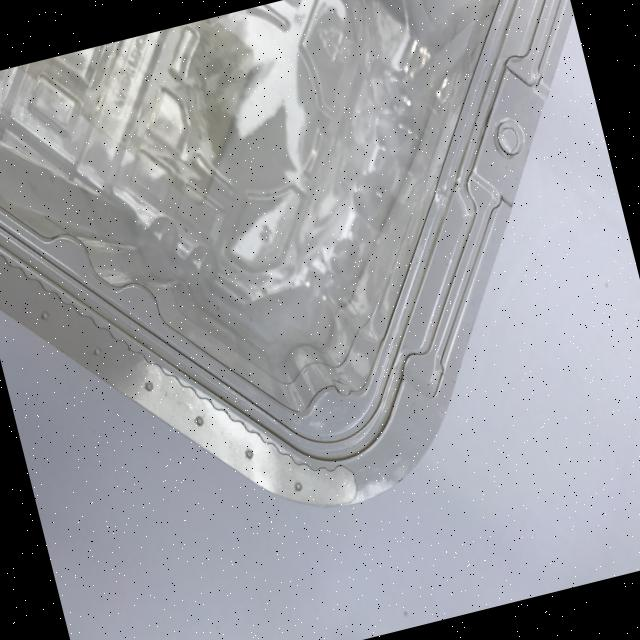plastic: (0, 0, 640, 578)
